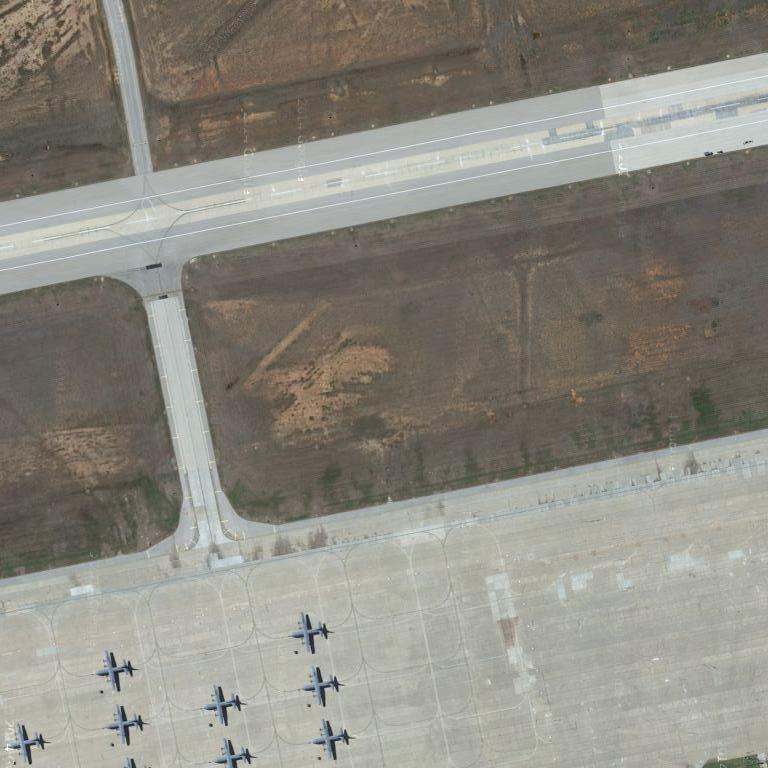C-130: (284, 609, 333, 657), (5, 721, 51, 767), (92, 650, 135, 696), (202, 683, 244, 730), (309, 719, 352, 763), (299, 667, 340, 712), (106, 702, 144, 746), (208, 739, 253, 768)
